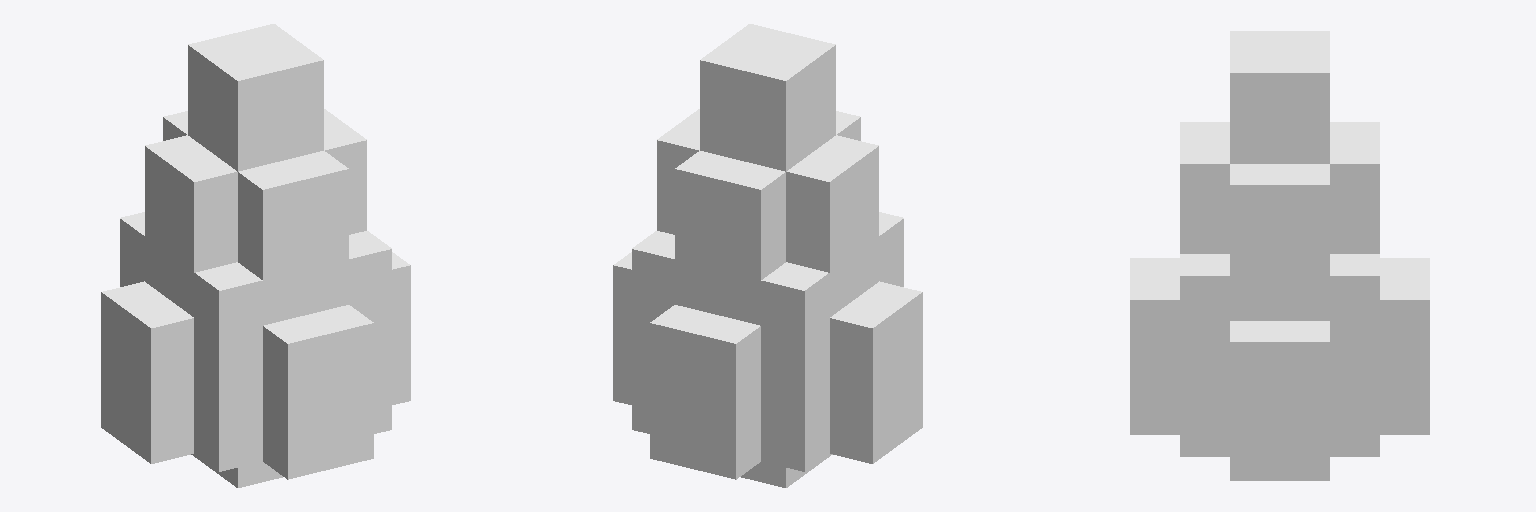
File: bush-0.obj
3 renders of one model, left to right at view 1: azimuth 30°, elevation 25°; view 2: azimuth 150°, elevation 25°; view 3: azimuth 270°, elevation 25°, orthographic.
Parts seen in each view (by area): view 1: object 1; view 2: object 1; view 3: object 1.
Part boxes in pixels (x1,y1,x2,y2): object 1: (101,24,410,487); object 1: (613,24,922,487); object 1: (1130,31,1429,480).
Size of the model in its own units: 0.6 by 0.9 by 0.6.